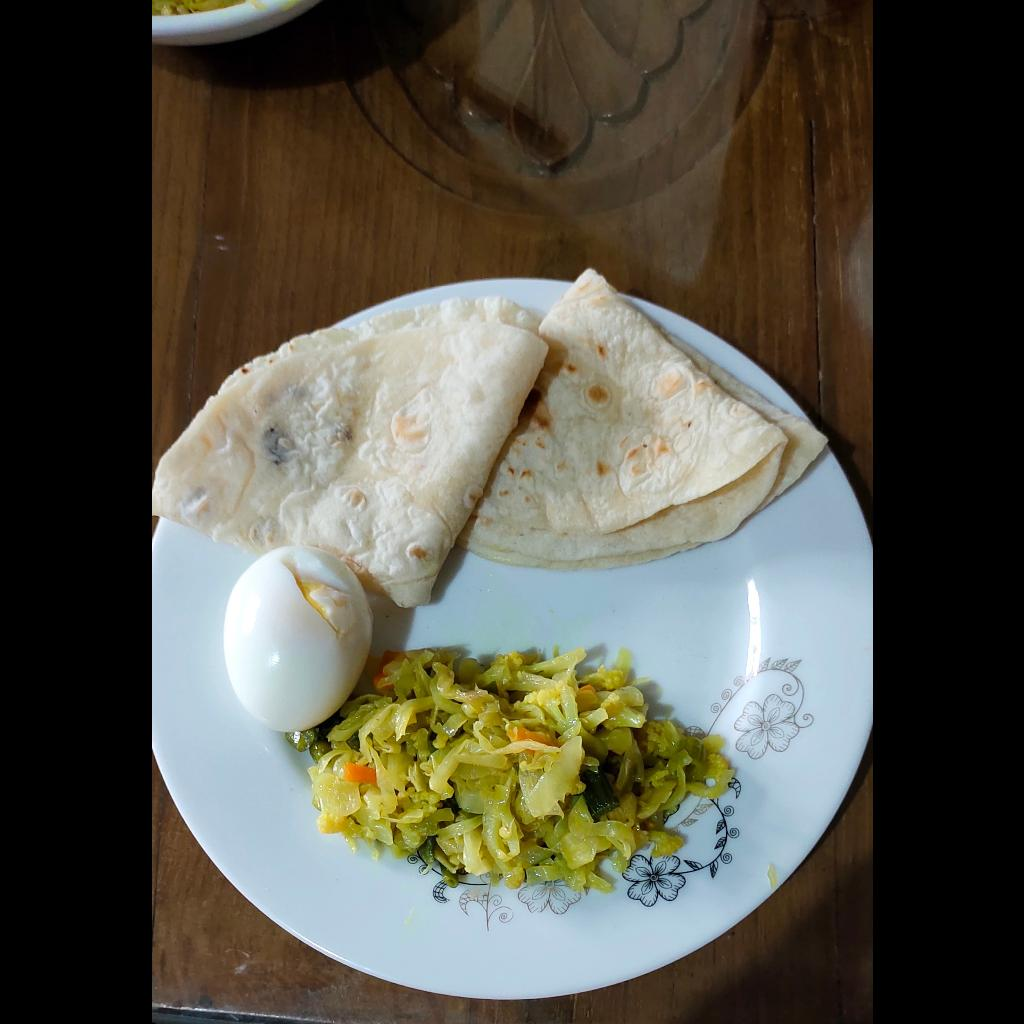cabbage: (304, 643, 736, 889)
egg-boiled: (222, 543, 373, 736)
ruti: (151, 260, 835, 609)
